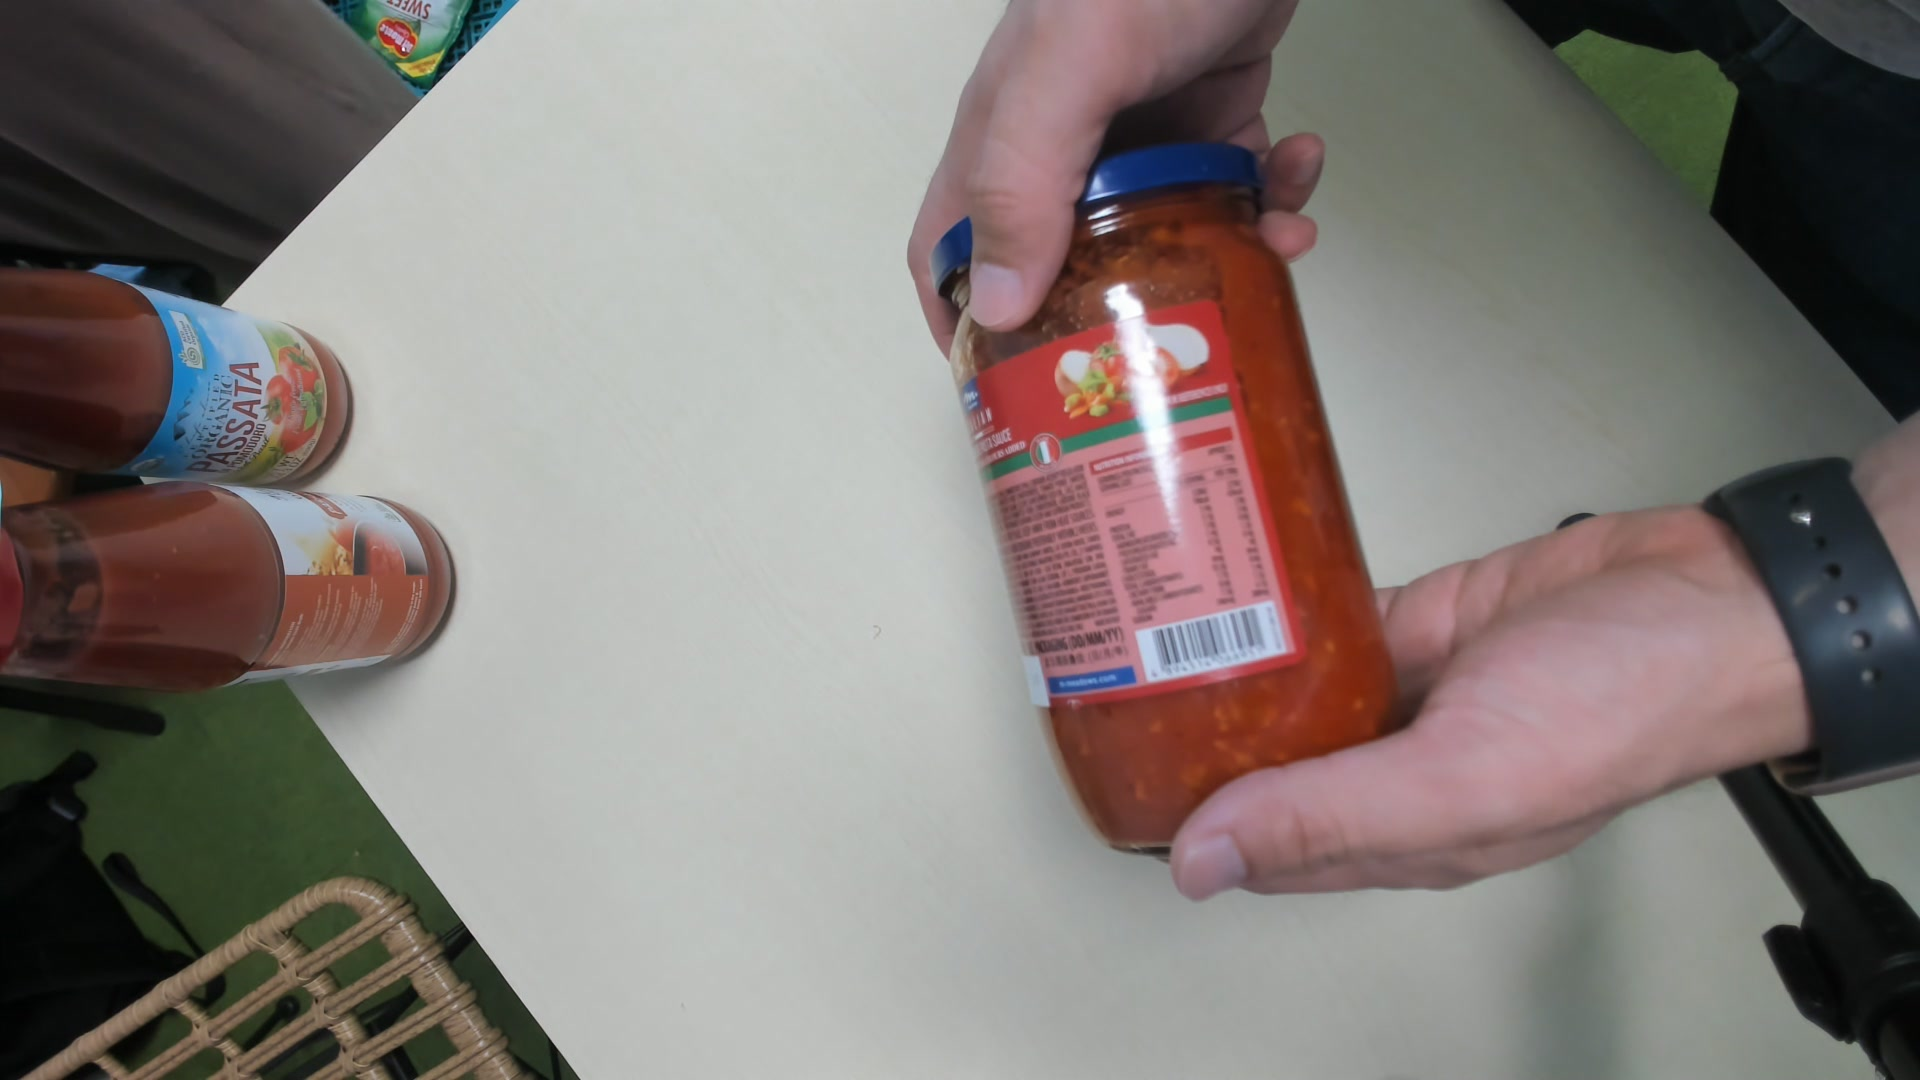PastaSauce_600-699g_Halal_NonHealthy: (934, 132, 1398, 855)
